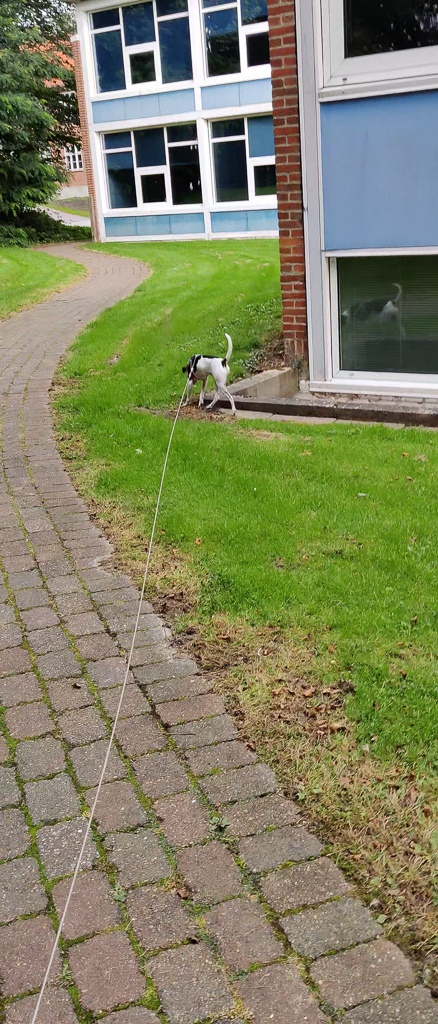Dog: (174, 325, 246, 424)
